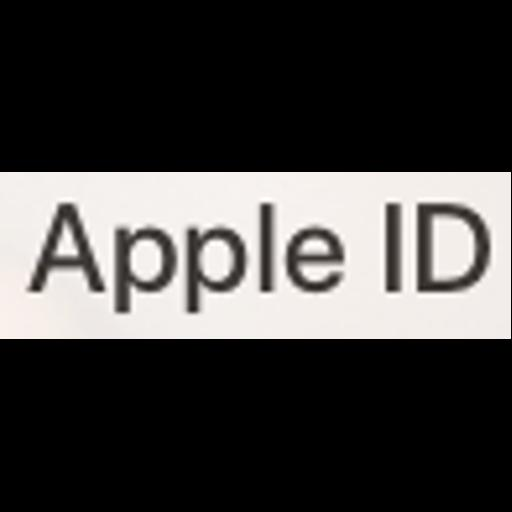Apple: (0, 172, 511, 339)
